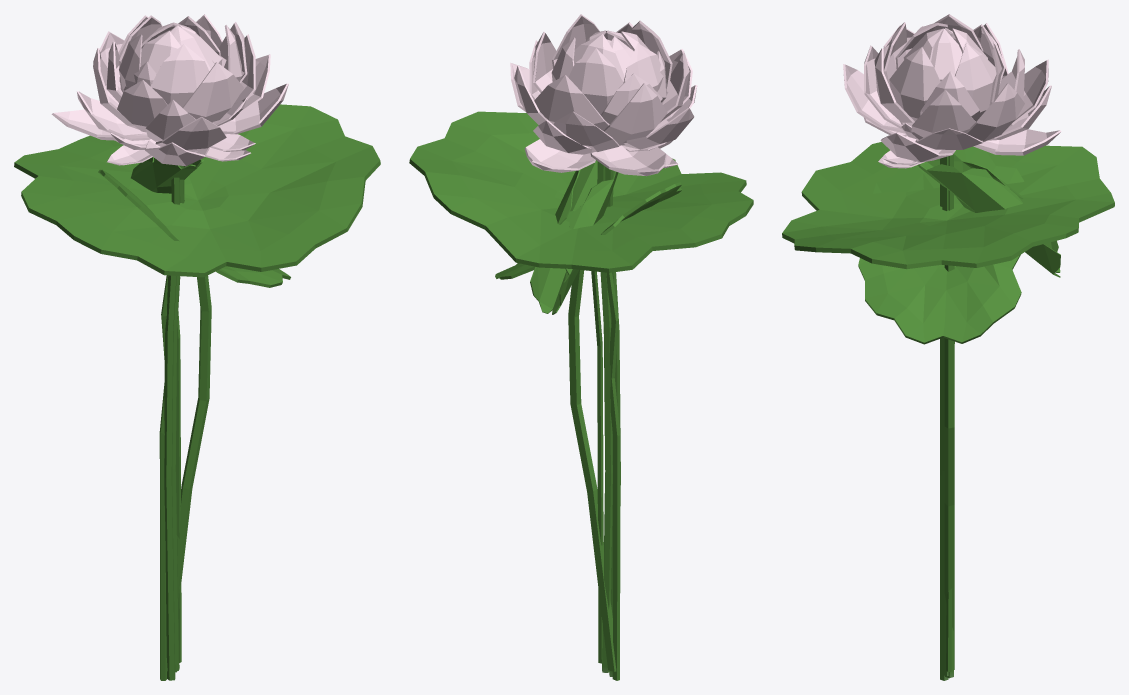
The picture shows the model from 3 angles, left to right: view 1: azimuth 30°, elevation 25°; view 2: azimuth 150°, elevation 25°; view 3: azimuth 270°, elevation 25°; orthographic projection.
Visible parts, largest first — view 1: heye_1, hehua, heye_2, heye_3; view 2: heye_1, hehua, heye_3, heye_2; view 3: heye_1, hehua, heye_2, heye_3.
Boxes of the visible parts, x1=… form: heye_1: x1=14, y1=104, x2=380, y2=671; hehua: x1=51, y1=14, x2=288, y2=680; heye_2: x1=98, y1=169, x2=290, y2=680; heye_3: x1=131, y1=157, x2=203, y2=662; heye_1: x1=409, y1=111, x2=753, y2=671; hehua: x1=510, y1=14, x2=697, y2=676; heye_3: x1=530, y1=160, x2=618, y2=663; heye_2: x1=495, y1=182, x2=681, y2=680; heye_1: x1=782, y1=142, x2=1114, y2=669; hehua: x1=843, y1=14, x2=1061, y2=680; heye_2: x1=858, y1=146, x2=1024, y2=344; heye_3: x1=918, y1=154, x2=1060, y2=671.
Size of the model in its own units: 59.59 by 120 by 55.32.
